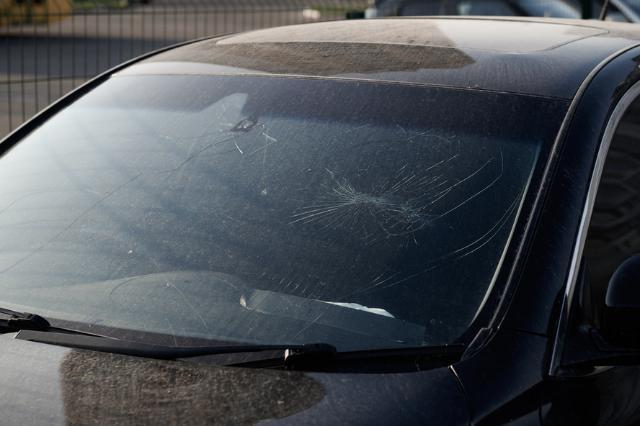Windshield: (283, 159, 433, 264)
